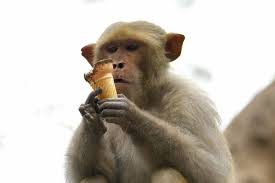monkey: (69, 17, 221, 172)
